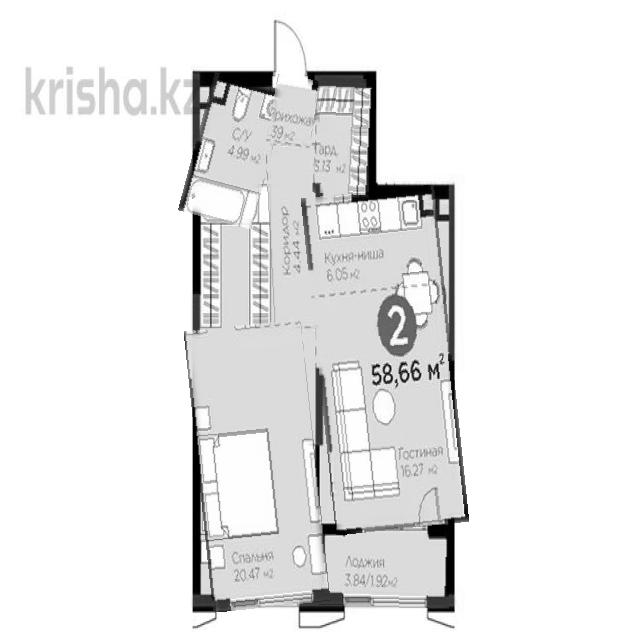balcony: (320, 532, 451, 608)
bathroom: (186, 75, 280, 226)
hallway: (268, 148, 317, 329), (269, 76, 319, 148)
living_room: (191, 322, 323, 609)
other: (314, 78, 375, 194)
studio: (310, 187, 460, 532)
